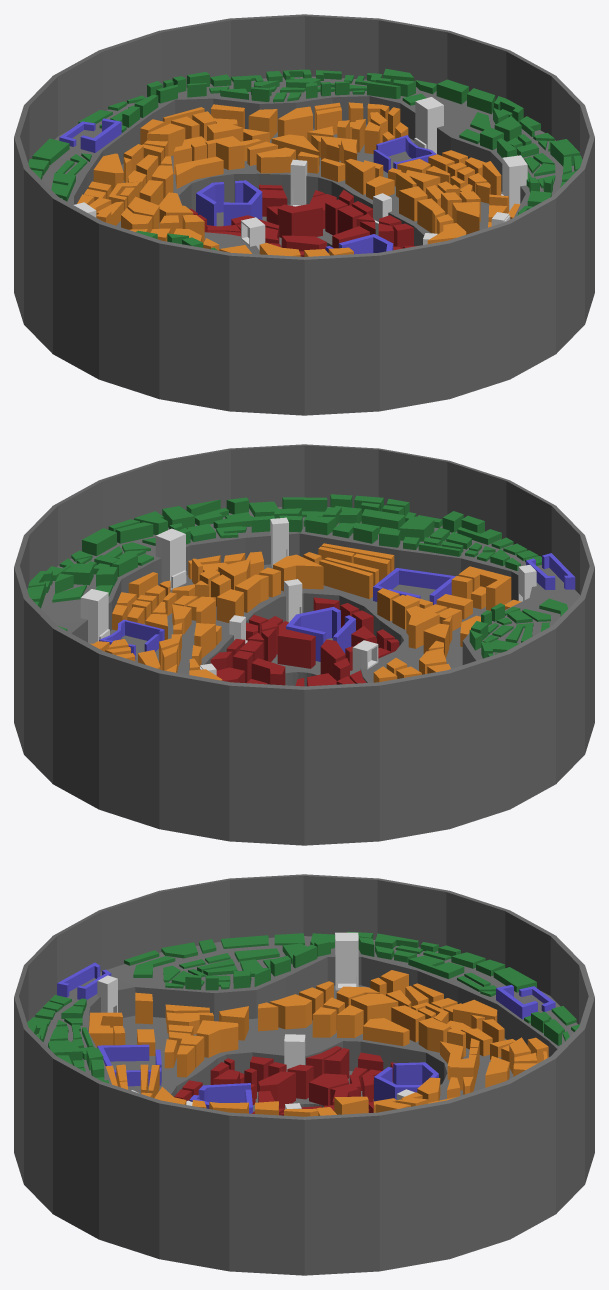
File: P_JPO_Bowl_V2.fbx
3 renders of one model, top to bottom at view 1: azimuth 30°, elevation 25°; view 2: azimuth 150°, elevation 25°; view 3: azimuth 270°, elevation 25°, orthographic.
Visible parts, largest first — view 1: M_New_Bowl, M_Buildings_Second_Floor, M_Buildings_First_Floor, M_Buildings_Third_Floor, M_Hearts, M_Elevator; view 2: M_New_Bowl, M_Buildings_Second_Floor, M_Buildings_First_Floor, M_Buildings_Third_Floor, M_Elevator, M_Hearts; view 3: M_New_Bowl, M_Buildings_Second_Floor, M_Buildings_First_Floor, M_Buildings_Third_Floor, M_Hearts, M_Elevator.
Boxes of the visible parts, bbox=[...] form: M_New_Bowl: bbox=[14, 14, 594, 415]; M_Buildings_Second_Floor: bbox=[77, 102, 520, 256]; M_Buildings_First_Floor: bbox=[28, 68, 582, 250]; M_Buildings_Third_Floor: bbox=[189, 184, 417, 256]; M_Hearts: bbox=[59, 118, 436, 254]; M_Elevator: bbox=[73, 97, 527, 250]; M_New_Bowl: bbox=[14, 444, 594, 845]; M_Buildings_Second_Floor: bbox=[90, 543, 521, 682]; M_Buildings_First_Floor: bbox=[27, 494, 567, 658]; M_Buildings_Third_Floor: bbox=[210, 597, 399, 686]; M_Elevator: bbox=[80, 517, 536, 675]; M_Hearts: bbox=[99, 553, 575, 661]; M_New_Bowl: bbox=[14, 874, 594, 1275]; M_Buildings_Second_Floor: bbox=[89, 970, 548, 1116]; M_Buildings_First_Floor: bbox=[27, 931, 579, 1083]; M_Buildings_Third_Floor: bbox=[174, 1046, 396, 1115]; M_Hearts: bbox=[57, 962, 555, 1113]; M_Elevator: bbox=[97, 932, 414, 1109].
Size of the model in its own units: 63000 by 18736 by 63000.
